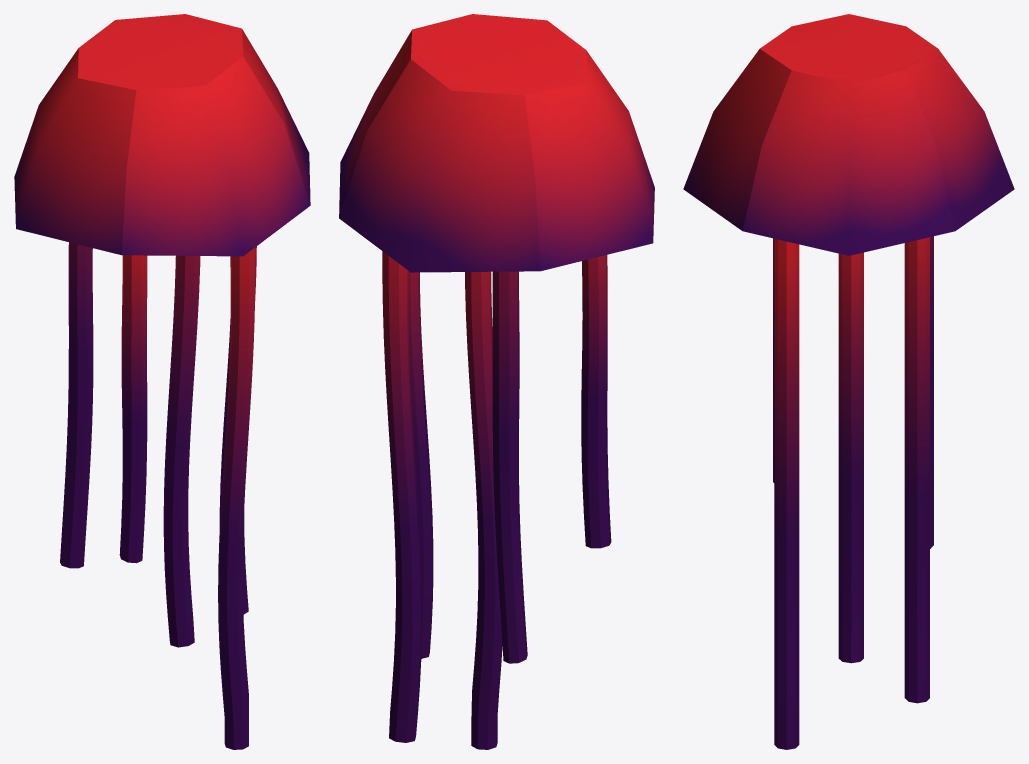
Rendered from meduse.fbx.
3 renders of one model, left to right at view 1: azimuth 30°, elevation 25°; view 2: azimuth 150°, elevation 25°; view 3: azimuth 270°, elevation 25°, orthographic. The views are drawn at different scales.
Parts seen in each view (by area): view 1: polySurface_meduse; view 2: polySurface_meduse; view 3: polySurface_meduse.
Boxes of the visible parts, bbox=[...] form: polySurface_meduse: bbox=[14, 14, 310, 749]; polySurface_meduse: bbox=[339, 14, 654, 749]; polySurface_meduse: bbox=[683, 14, 1014, 749].
Size of the model in its own units: 1.58 by 3.52 by 1.56.
